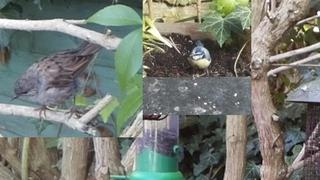blue tit: (187, 40, 211, 77)
dunnock: (11, 40, 103, 122)
